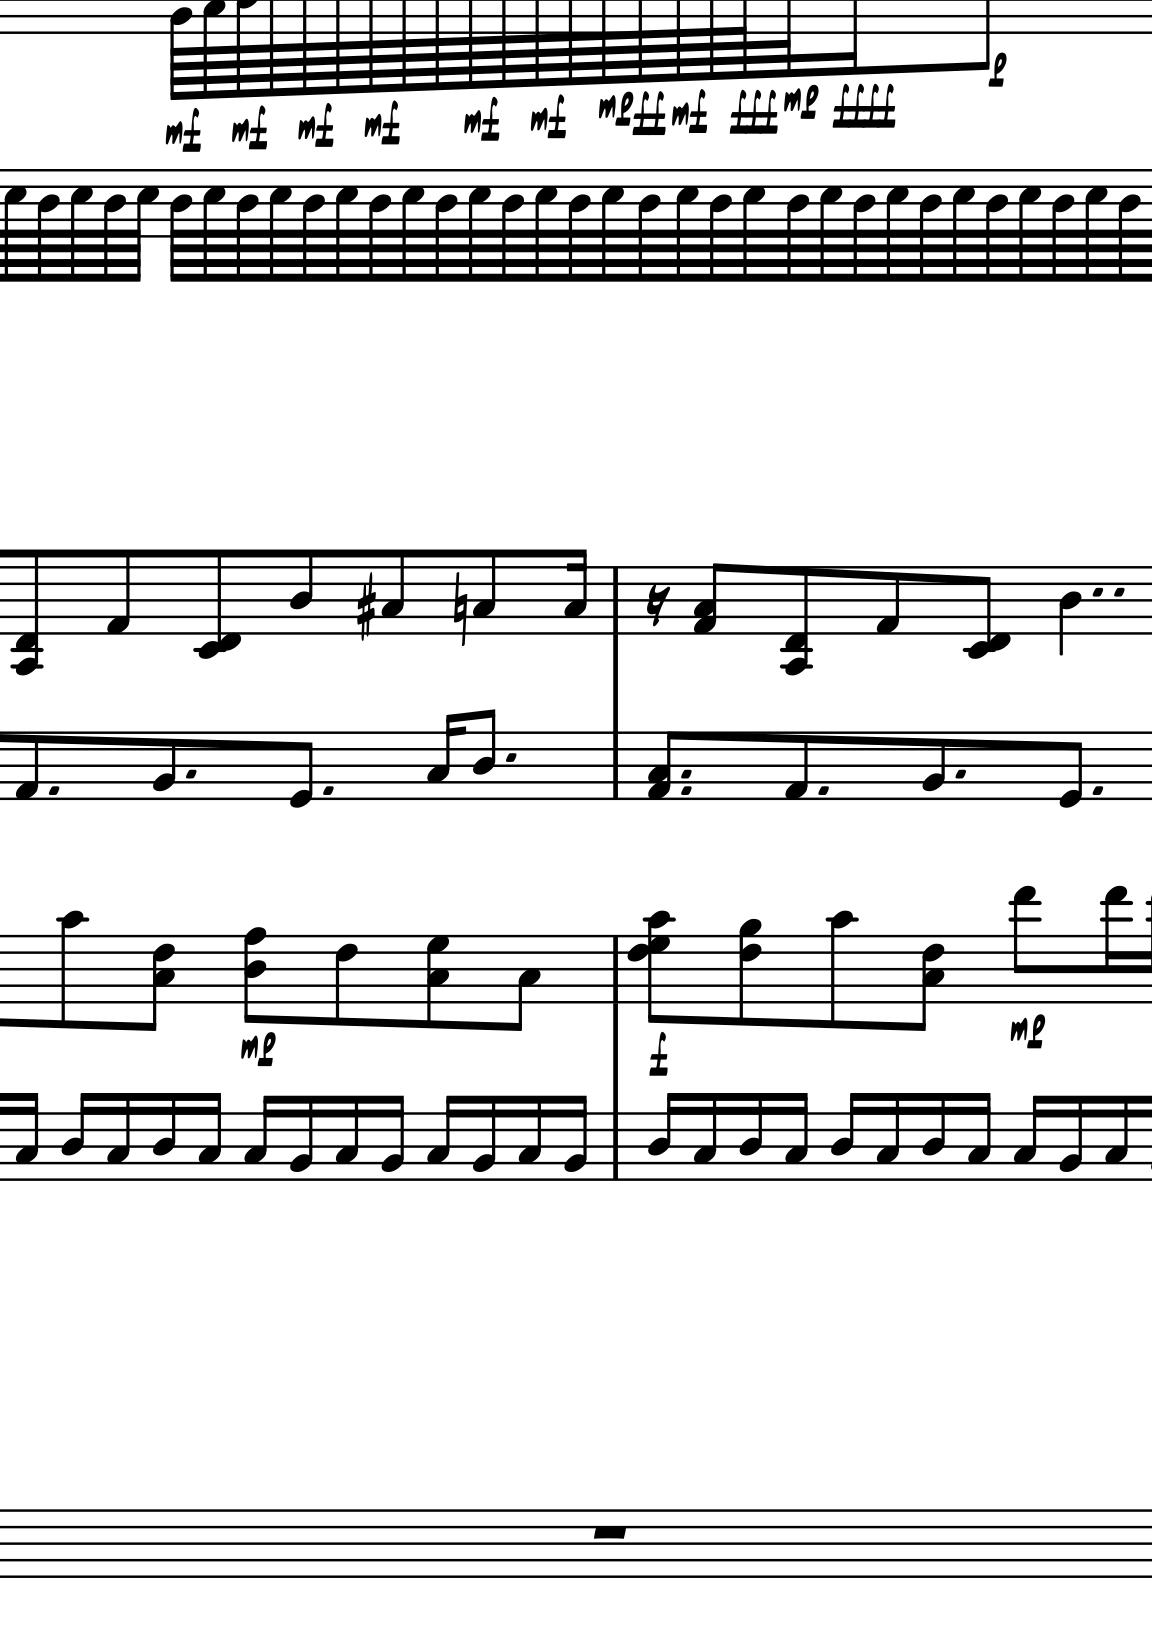16_13: (1100, 886, 1130, 1006)
16_2: (287, 1094, 315, 1183), (561, 1093, 588, 1183), (378, 1094, 405, 1183), (470, 1094, 497, 1183), (1057, 1094, 1085, 1183)
16_3: (423, 712, 465, 801), (239, 1092, 276, 1183), (1010, 1092, 1045, 1183), (423, 1093, 458, 1183), (689, 1090, 719, 1183), (103, 1090, 132, 1183), (780, 1090, 809, 1183), (873, 1090, 901, 1183), (515, 1093, 544, 1183), (332, 1094, 360, 1183), (11, 1090, 39, 1183), (194, 1090, 222, 1183), (964, 1090, 991, 1183), (1102, 1093, 1130, 1183), (562, 546, 588, 637)
16_4: (645, 1090, 679, 1183), (59, 1090, 92, 1183), (828, 1090, 862, 1183), (150, 1090, 178, 1183), (738, 1090, 766, 1183), (921, 1090, 948, 1183)
4_4: (1056, 565, 1081, 658)
64_4: (784, 168, 809, 284), (636, 168, 661, 283), (918, 168, 943, 283), (982, 168, 1007, 283), (367, 169, 391, 283), (433, 169, 458, 283), (35, 168, 59, 284), (1050, 168, 1073, 284), (1117, 168, 1141, 284), (101, 169, 125, 284), (852, 168, 875, 283), (168, 169, 192, 283), (234, 169, 258, 283), (300, 169, 324, 283), (500, 169, 524, 283), (566, 169, 590, 283), (708, 168, 731, 283)
64_5: (128, 168, 160, 284), (69, 166, 94, 283), (598, 166, 623, 283), (741, 166, 766, 283), (1, 167, 26, 283), (201, 167, 226, 283), (267, 167, 292, 283), (333, 167, 358, 283), (466, 167, 491, 283), (534, 167, 559, 283), (674, 167, 699, 283), (884, 167, 909, 283), (1083, 167, 1108, 283), (1017, 167, 1042, 282), (400, 167, 424, 283), (818, 167, 842, 283), (951, 167, 975, 283)
8_-2_-1: (194, 548, 242, 659), (962, 565, 1012, 659)
8_-4_-1: (10, 548, 45, 677), (782, 565, 815, 675)
8_0: (287, 729, 315, 810), (1056, 730, 1085, 810)
8_1: (103, 547, 131, 638), (780, 730, 810, 803), (874, 565, 901, 637), (12, 730, 40, 803)
8_10: (56, 908, 87, 1033), (825, 908, 857, 1033)
8_13: (1009, 886, 1040, 1004)
8_1_3: (694, 562, 727, 637), (647, 729, 679, 801)
8_2: (150, 732, 177, 803), (921, 732, 948, 803)
8_3: (505, 933, 542, 1034), (379, 548, 406, 637), (471, 548, 497, 637)
8_3_6: (143, 933, 177, 1032), (913, 932, 944, 1032)
8_3_7: (425, 935, 453, 1031)
8_4: (287, 548, 314, 636), (473, 708, 496, 801)
8_4_8: (243, 926, 271, 1026)
8_6: (332, 933, 358, 1029)
8_6_9: (738, 917, 763, 1029)
8_th: (627, 911, 679, 1026)
Double_dot: (1090, 584, 1130, 599)
Natural: (450, 572, 469, 649)
Rests1: (588, 1522, 630, 1543)
Rests16: (643, 583, 670, 629)
Sharp: (353, 576, 375, 643)
Single_barline: (603, 936, 627, 1003), (603, 1112, 626, 1180), (603, 732, 626, 799), (605, 567, 625, 634)
dot: (950, 763, 970, 785), (318, 779, 338, 800), (1088, 780, 1107, 801), (182, 764, 199, 784), (813, 783, 832, 800), (501, 750, 517, 766), (676, 783, 693, 796), (678, 768, 696, 780)
f: (646, 1031, 670, 1078)
ff: (632, 91, 670, 136)
fff: (729, 88, 780, 135)
ffff: (832, 83, 899, 128)
mf: (229, 103, 271, 150), (295, 103, 337, 148), (463, 97, 501, 143), (362, 102, 401, 146), (529, 95, 567, 140), (165, 106, 202, 152), (673, 90, 711, 135)
mp: (1007, 1013, 1049, 1049), (783, 83, 820, 120), (238, 1031, 277, 1065), (598, 91, 633, 128)
p: (985, 50, 1009, 90)
